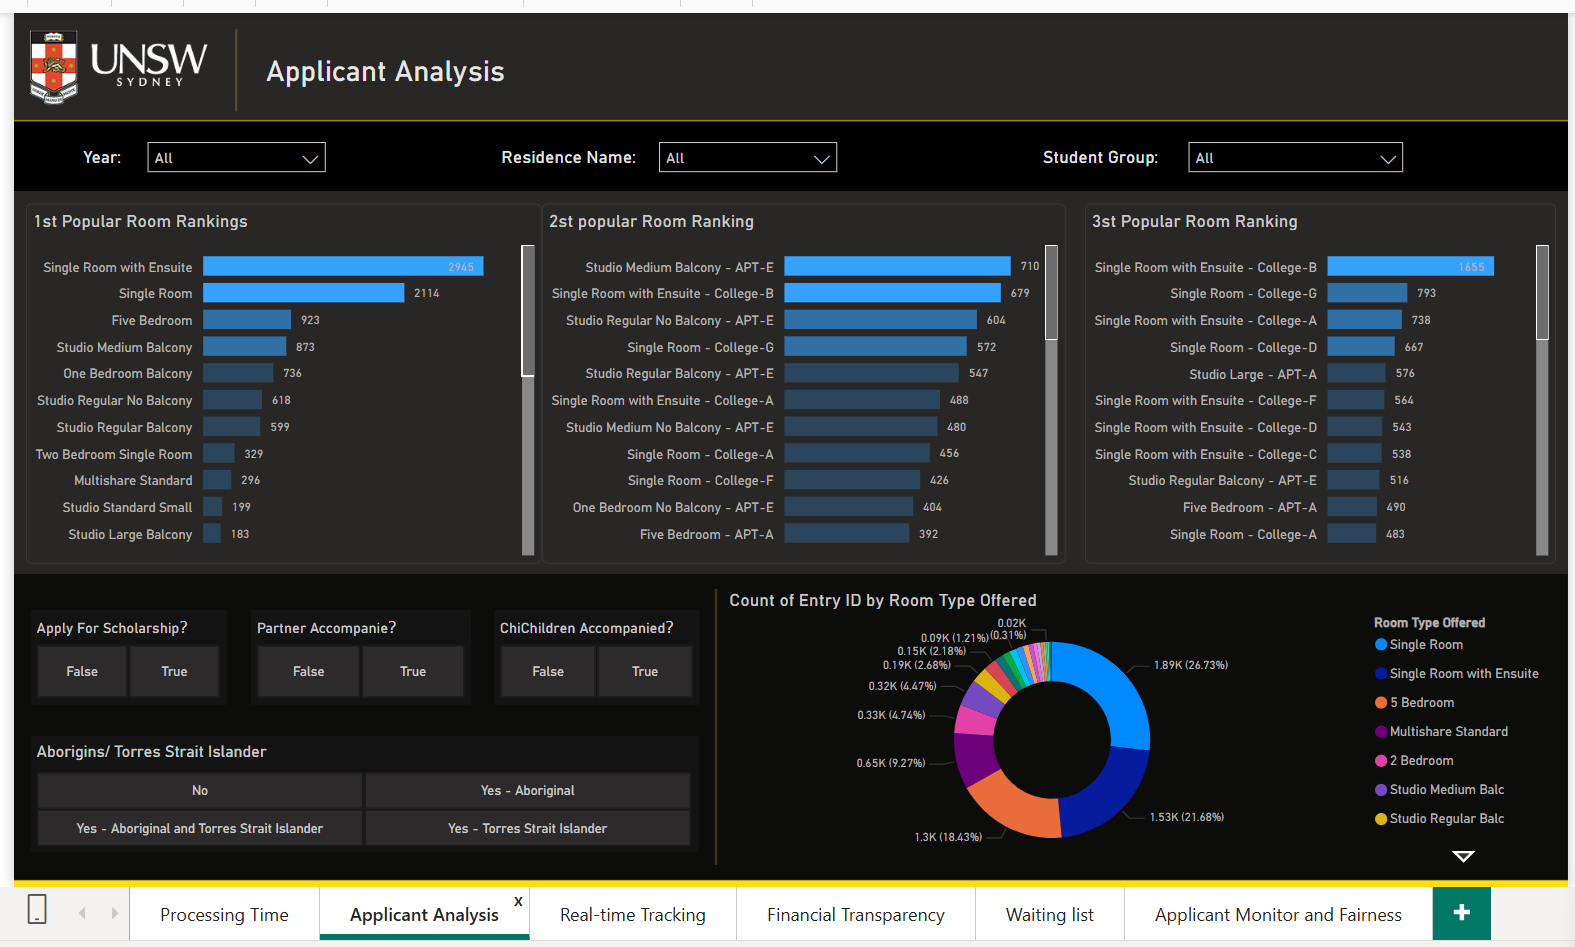

Layout of this report page (visuals, bound fields, positions):
{"tool":"powerbi","page":{"name":"Applicant Analysis","canvas":[1280,720],"ordinal":1},"visuals":[{"type":"shape","box":[170.3,13.1,25.2,67.5],"z":0},{"type":"shape","box":[0,462,1280,252.4],"z":1000},{"type":"shape","box":[207.6,13.1,376.9,67.5],"z":2000},{"type":"shape","box":[572.4,474.2,12.4,227.6],"z":3000},{"type":"slicer","fields":{"Values":["2025 T1 sandbox INFS.Application Date.Variation.Date Hierarchy.Year"]},"box":[99.6,96.2,166.4,44.1],"z":4000},{"type":"slicer","fields":{"Values":["2025 T1 sandbox INFS.Residence Name"]},"box":[521.9,96.2,166.4,44.1],"z":5000},{"type":"slicer","fields":{"Values":["2025 T1 sandbox INFS.Student Group"]},"box":[957.5,96.2,196.9,44.1],"z":6000},{"type":"shape","box":[56.6,96.2,43,44.1],"z":7000},{"type":"shape","box":[401.9,96.2,120,44.1],"z":8000},{"type":"shape","box":[847.7,96.2,109.8,44.1],"z":9000},{"type":"clusteredBarChart","title":"1st Popular Room Rankings","fields":{"Category":["2025 T1 sandbox INFS.1st Only Room Preference"],"Y":["Count(2025 T1 sandbox INFS.Entry ID)"]},"box":[10.1,156.6,424.8,296.3],"z":10000},{"type":"advancedSlicerVisual","title":"Aborigins/ Torres Strait Islander","fields":{"Values":["2025 T1 sandbox INFS.Aboriginal Or Torres Strait Islander"]},"box":[13.5,595.1,551,95.8],"z":11000},{"type":"donutChart","fields":{"Category":["2025 T1 sandbox INFS.Room Type Offered"],"Y":["Count(2025 T1 sandbox INFS.Entry ID)"]},"box":[584.8,469.9,686.2,237.7],"z":12000},{"type":"clusteredBarChart","title":"2st popular Room Ranking ","fields":{"Category":["2025 T1 sandbox INFS.2nd Room Preference"],"Y":["Count(2025 T1 sandbox INFS.Entry ID)"]},"box":[435,156.9,431.3,296.6],"z":13000},{"type":"clusteredBarChart","title":"3st Popular Room Ranking","fields":{"Category":["2025 T1 sandbox INFS.3rd Room Preference"],"Y":["CountNonNull(2025 T1 sandbox INFS.Entry ID)"]},"box":[882.3,156.9,388,296.6],"z":14000},{"type":"advancedSlicerVisual","title":"Apply For Scholarship？","fields":{"Values":["2025 T1 sandbox INFS.Apply For Scholarship"]},"box":[13.5,491.4,162.3,77.7],"z":15000},{"type":"advancedSlicerVisual","title":"Partner Accompanie？","fields":{"Values":["2025 T1 sandbox INFS.Partner Accompanied"]},"box":[194.9,491.4,181.4,77.7],"z":16000},{"type":"advancedSlicerVisual","title":"ChiChildren Accompanied？","fields":{"Values":["2025 T1 sandbox INFS.Children Accompanied"]},"box":[395.5,491.4,169,77.7],"z":17000}]}

Visuals, with their boxes on the page's 1280x720 design canvas (x1, y1, x2, y2). These are canvas units, not pixel positions in the 1575x947 screenshot, which may show the page scaled, cropped or inside an application window:
shape: (left=170, top=13, right=196, bottom=81)
shape: (left=0, top=462, right=1280, bottom=714)
shape: (left=208, top=13, right=584, bottom=81)
shape: (left=572, top=474, right=585, bottom=702)
slicer - 2025 T1 sandbox INFS.Application Date.Variation.Date Hierarchy.Year: (left=100, top=96, right=266, bottom=140)
slicer - 2025 T1 sandbox INFS.Residence Name: (left=522, top=96, right=688, bottom=140)
slicer - 2025 T1 sandbox INFS.Student Group: (left=958, top=96, right=1154, bottom=140)
shape: (left=57, top=96, right=100, bottom=140)
shape: (left=402, top=96, right=522, bottom=140)
shape: (left=848, top=96, right=958, bottom=140)
"1st Popular Room Rankings" clusteredBarChart: (left=10, top=157, right=435, bottom=453)
"Aborigins/ Torres Strait Islander" advancedSlicerVisual: (left=14, top=595, right=564, bottom=691)
donutChart - 2025 T1 sandbox INFS.Room Type Offered x Count(2025 T1 sandbox INFS.Entry ID): (left=585, top=470, right=1271, bottom=708)
"2st popular Room Ranking " clusteredBarChart: (left=435, top=157, right=866, bottom=454)
"3st Popular Room Ranking" clusteredBarChart: (left=882, top=157, right=1270, bottom=454)
"Apply For Scholarship？" advancedSlicerVisual: (left=14, top=491, right=176, bottom=569)
"Partner Accompanie？" advancedSlicerVisual: (left=195, top=491, right=376, bottom=569)
"ChiChildren Accompanied？" advancedSlicerVisual: (left=396, top=491, right=564, bottom=569)
